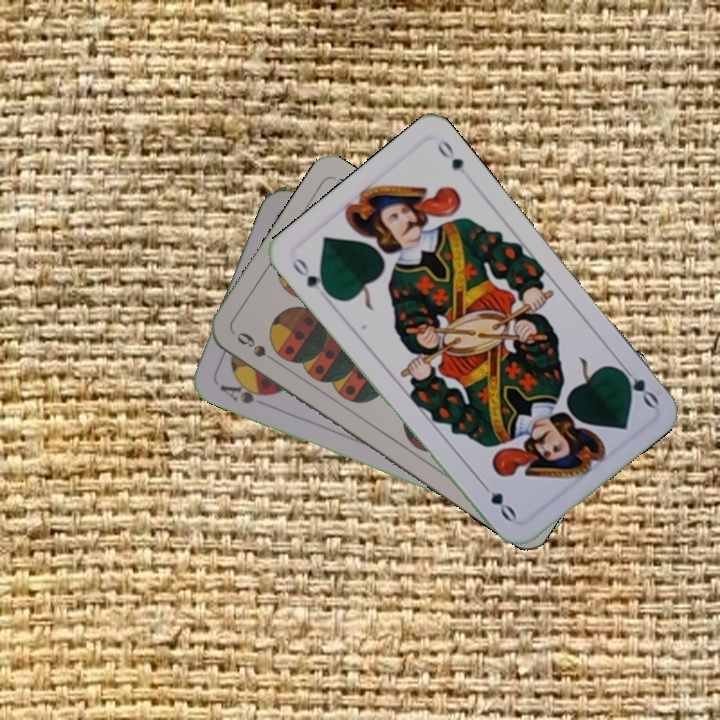GO: (612, 359, 662, 411), (287, 253, 334, 299)
S9: (232, 328, 283, 368)
SA: (216, 376, 272, 407)
